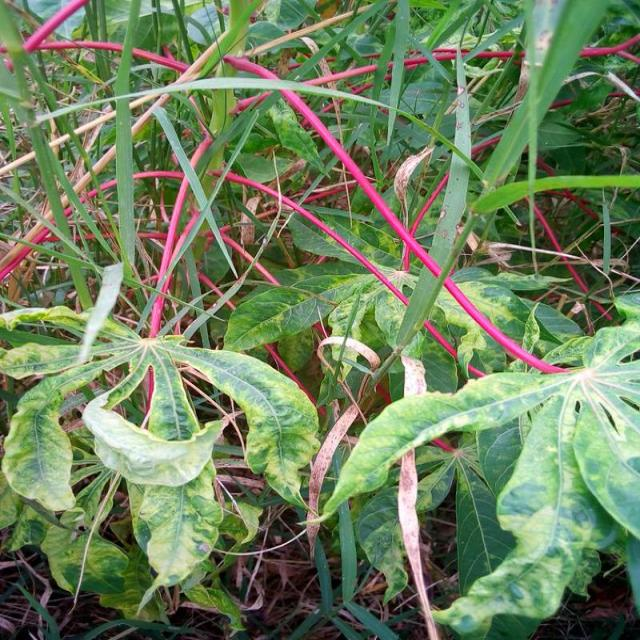cassava leaf: (2, 1, 640, 636), (320, 300, 640, 637)
